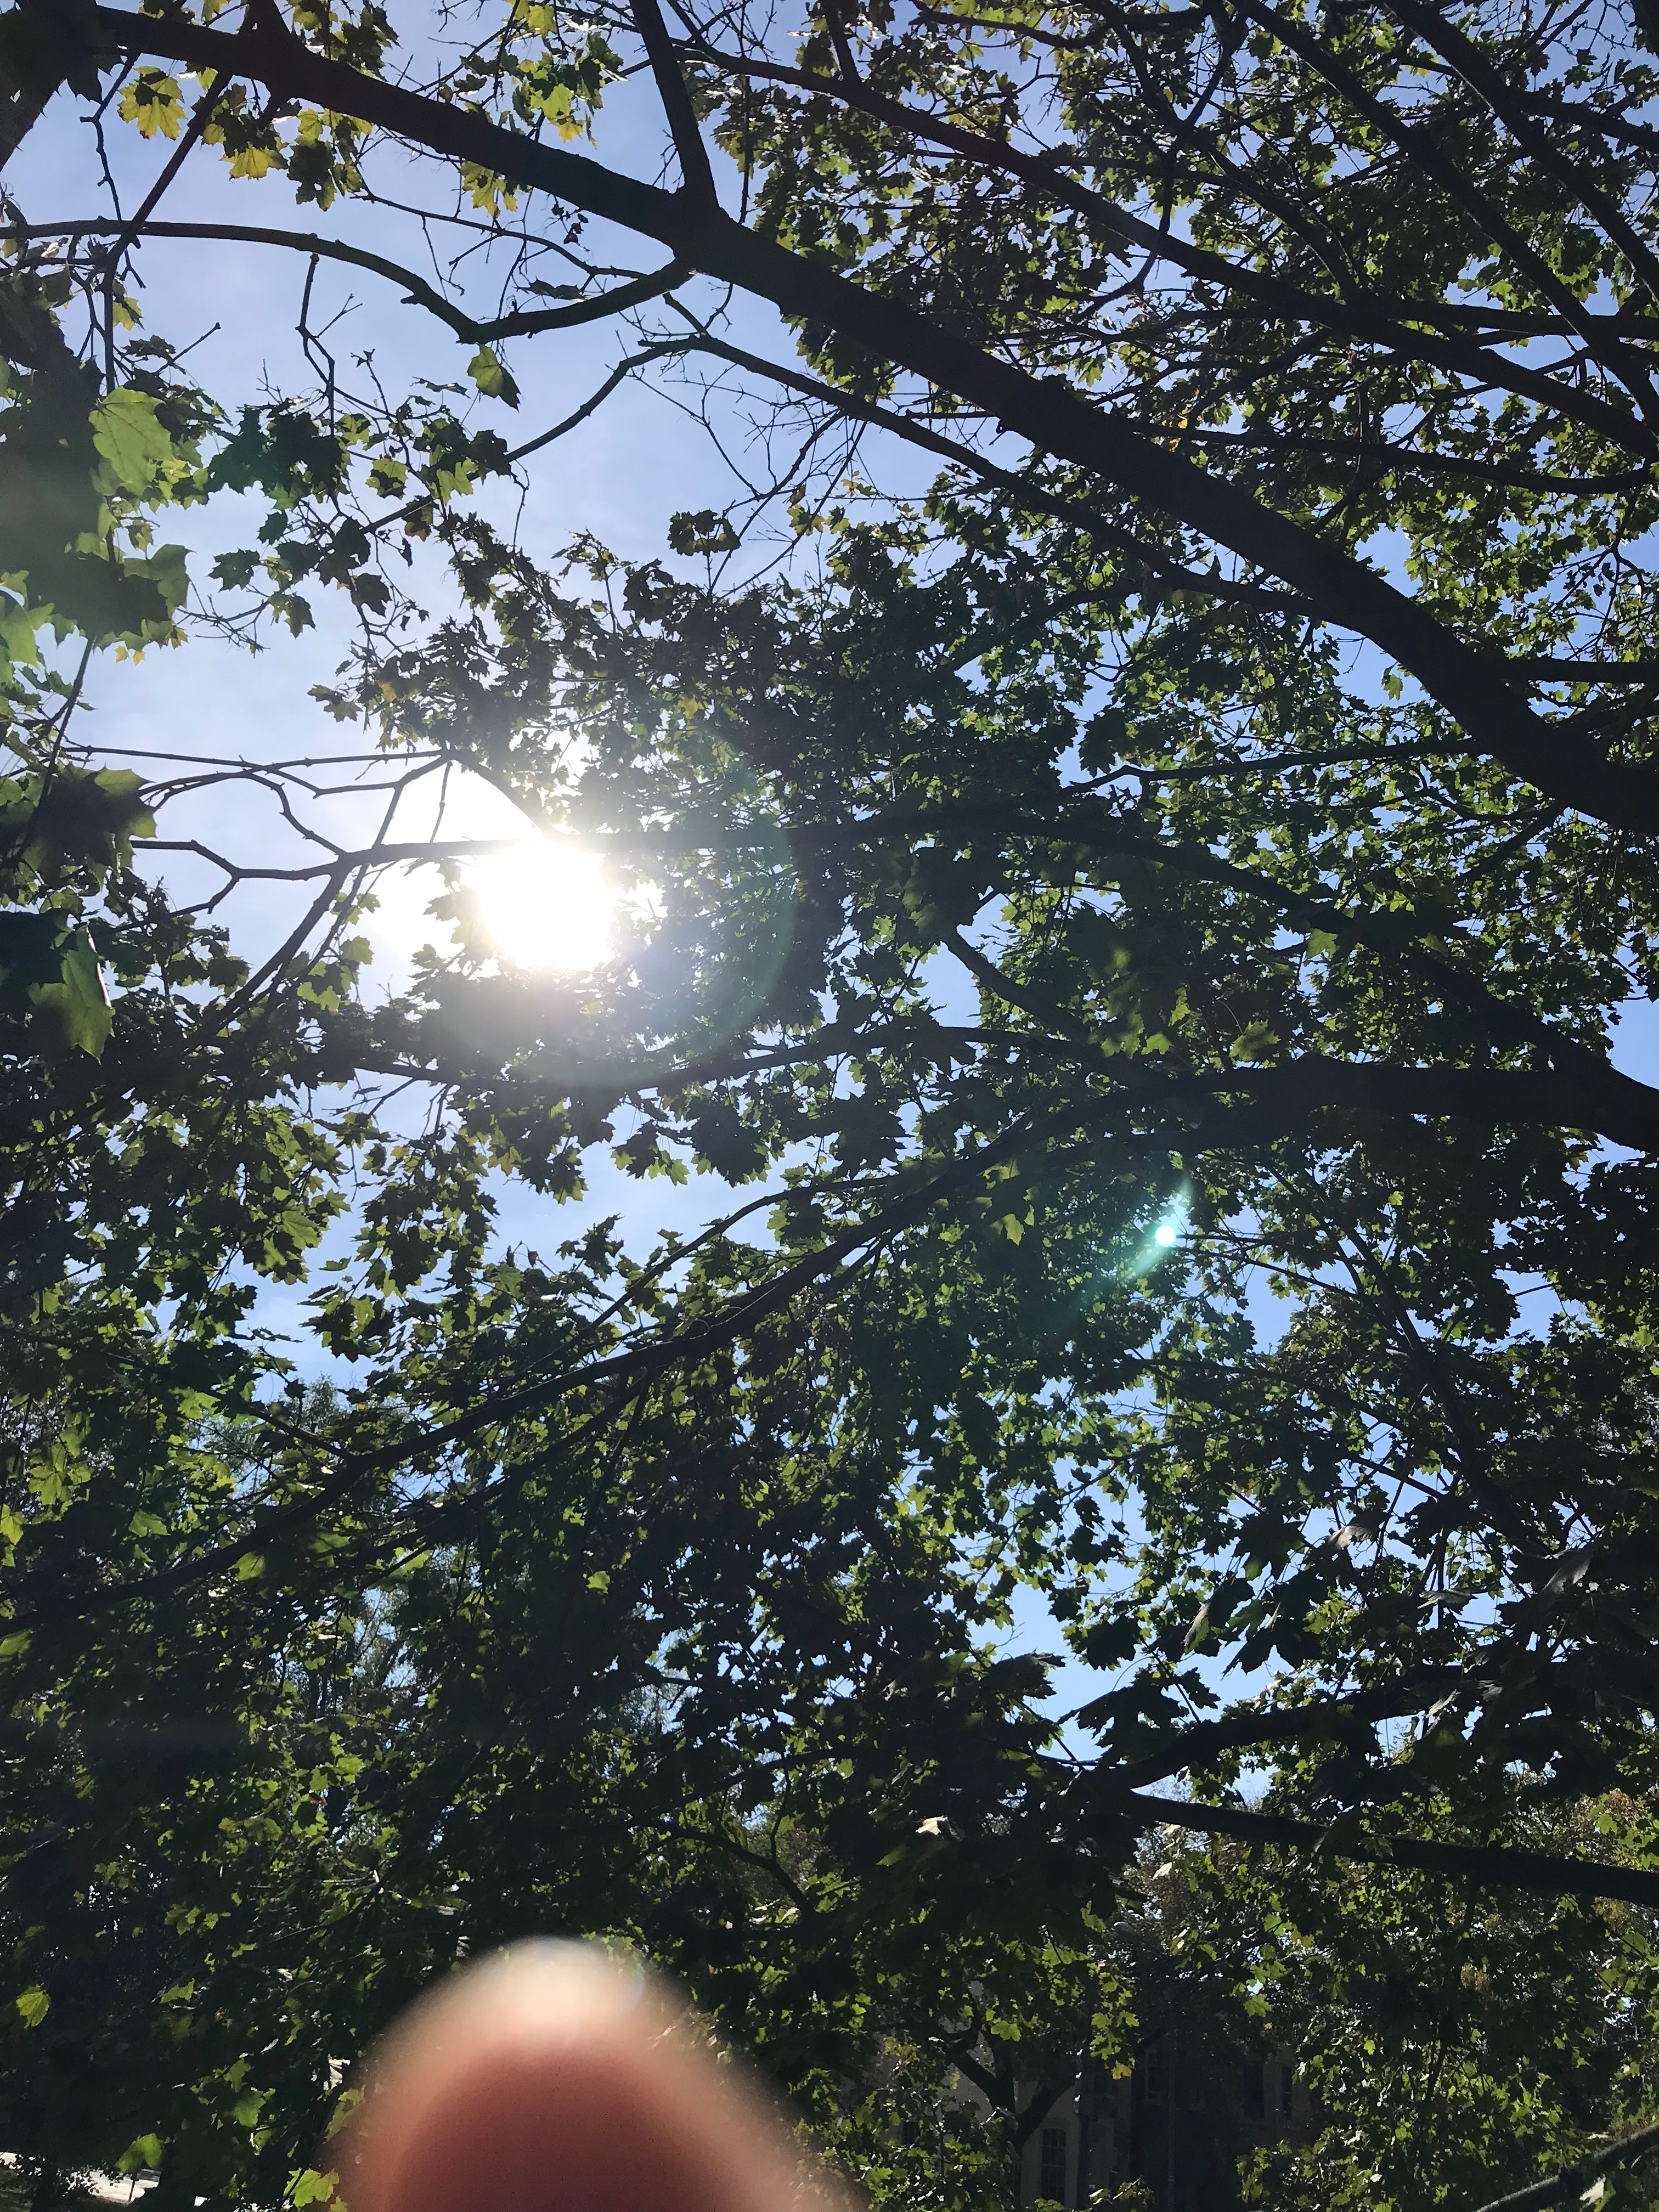flare: (1154, 1226, 1178, 1247)
